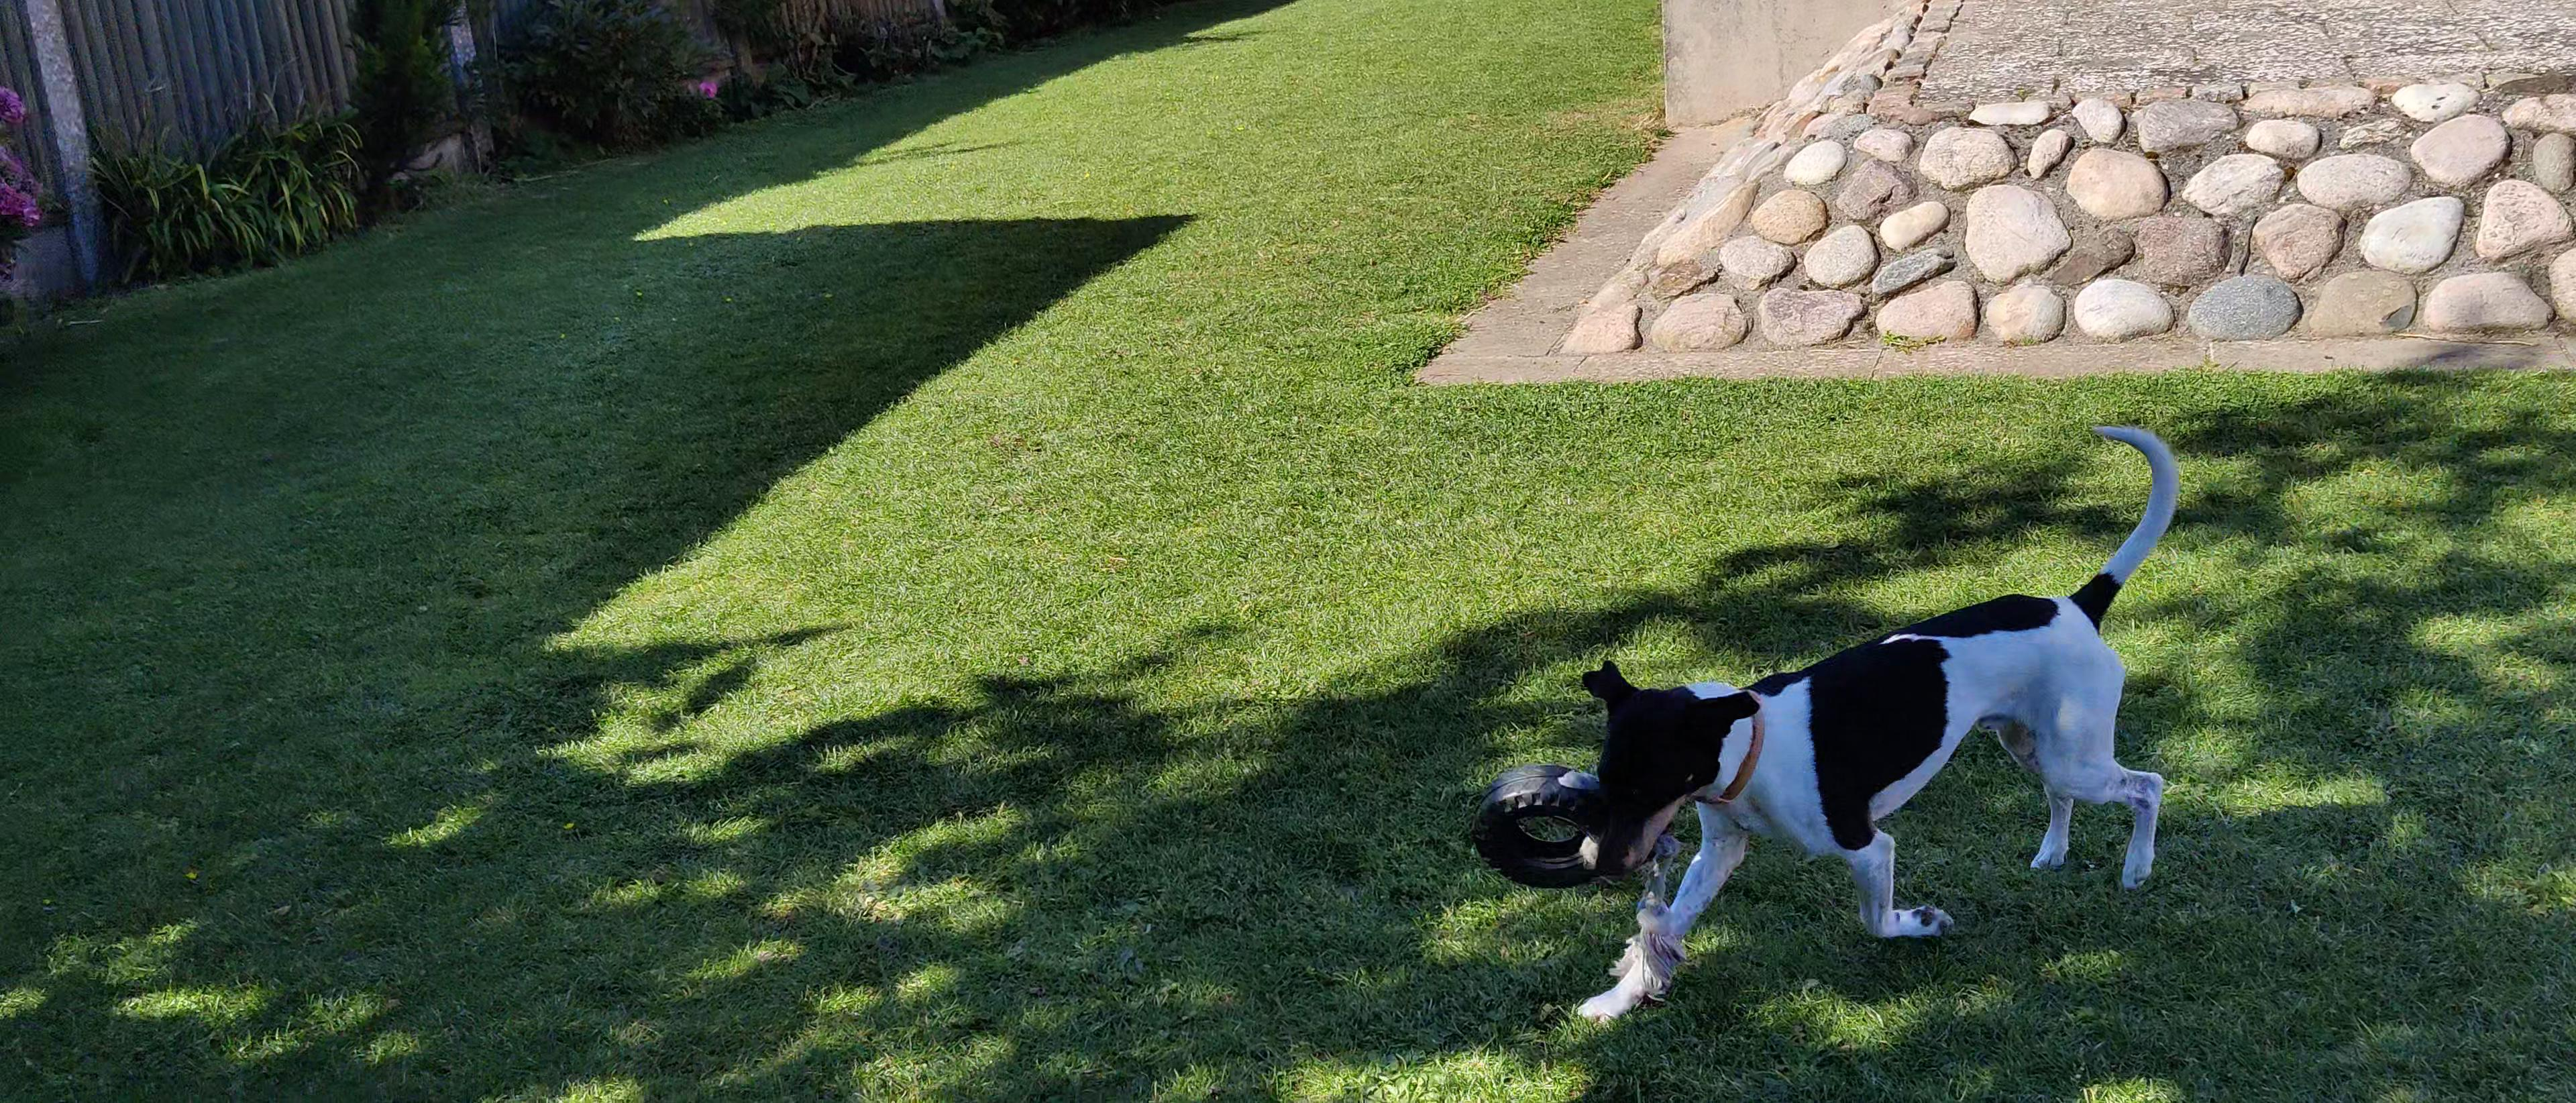Dog: (1564, 404, 2196, 1049)
